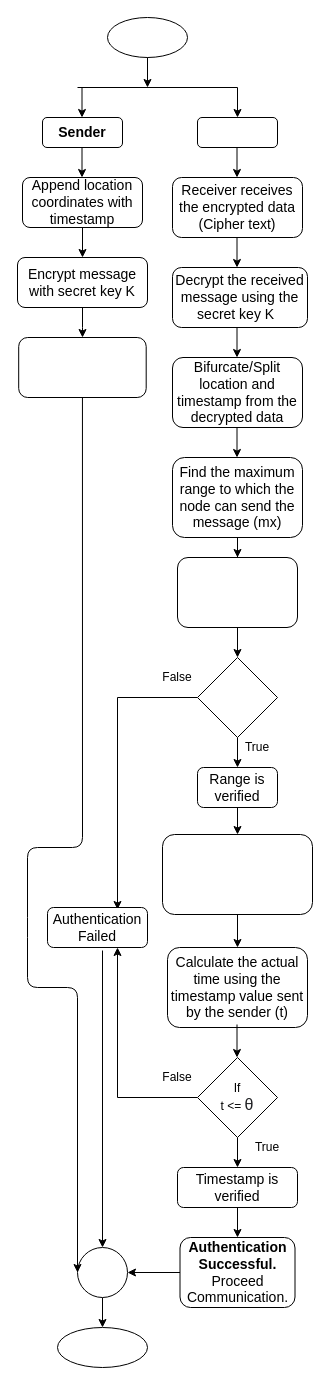
Some shapes in this 330 by 1385 pixel diagram are drawn without their labels. Here are the shapes that lost their labels. From the top down, the box of each, then its label:
(106, 16, 188, 58): Start
(196, 116, 278, 148): Receiver
(18, 336, 146, 398): Sender sends the encrypted data (Cipher text)
(176, 556, 298, 628): Calculate distance between sender node and receiver node (d)
(196, 656, 278, 738): If mx >= d
(162, 834, 312, 914): Set the threshold time limit for the traversal in underwater environment ( θ )
(56, 1326, 148, 1368): Stop
